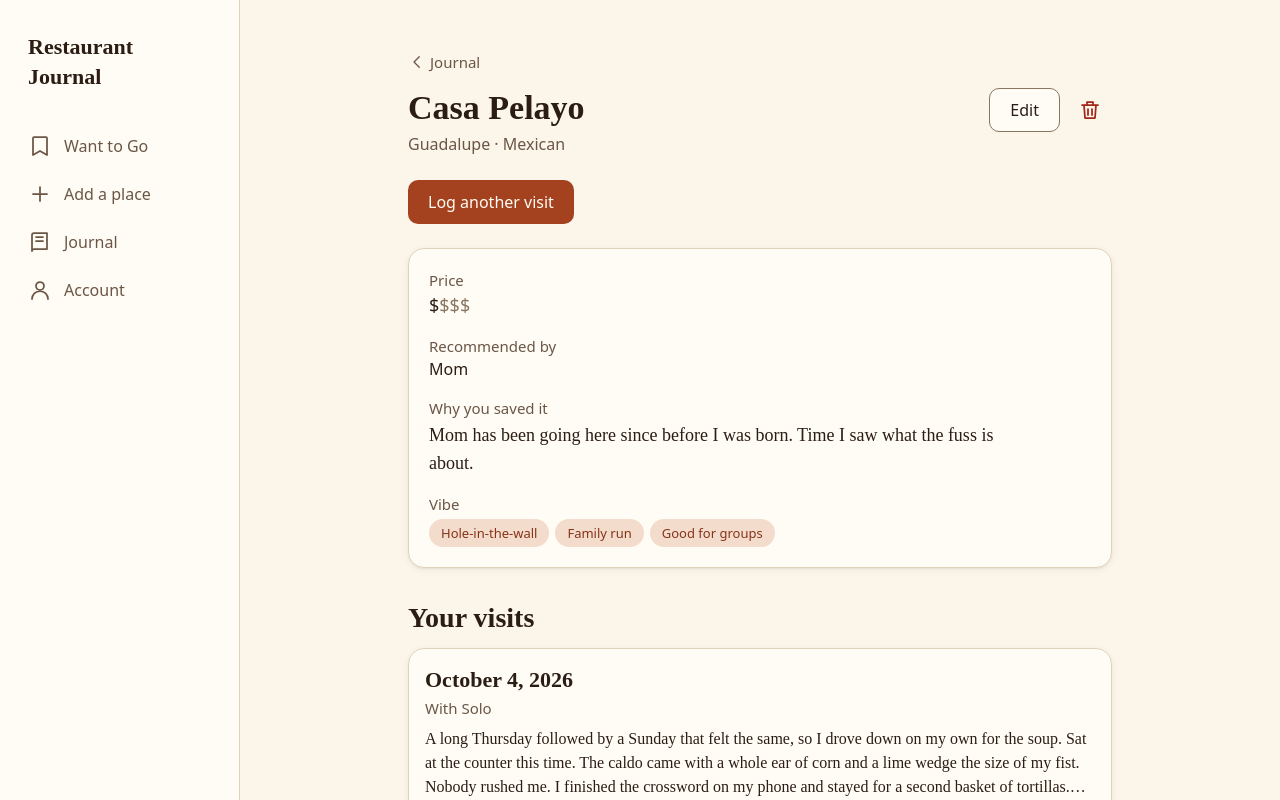
Test: Place detail screen › warns that deleting a visited place also deletes its entries, and can be cancelled
This screenshot has width=1280, height=800.
Click the button named "Delete Casa Pelayo" at coordinates (1090, 110), box [1068,88,1112,132]
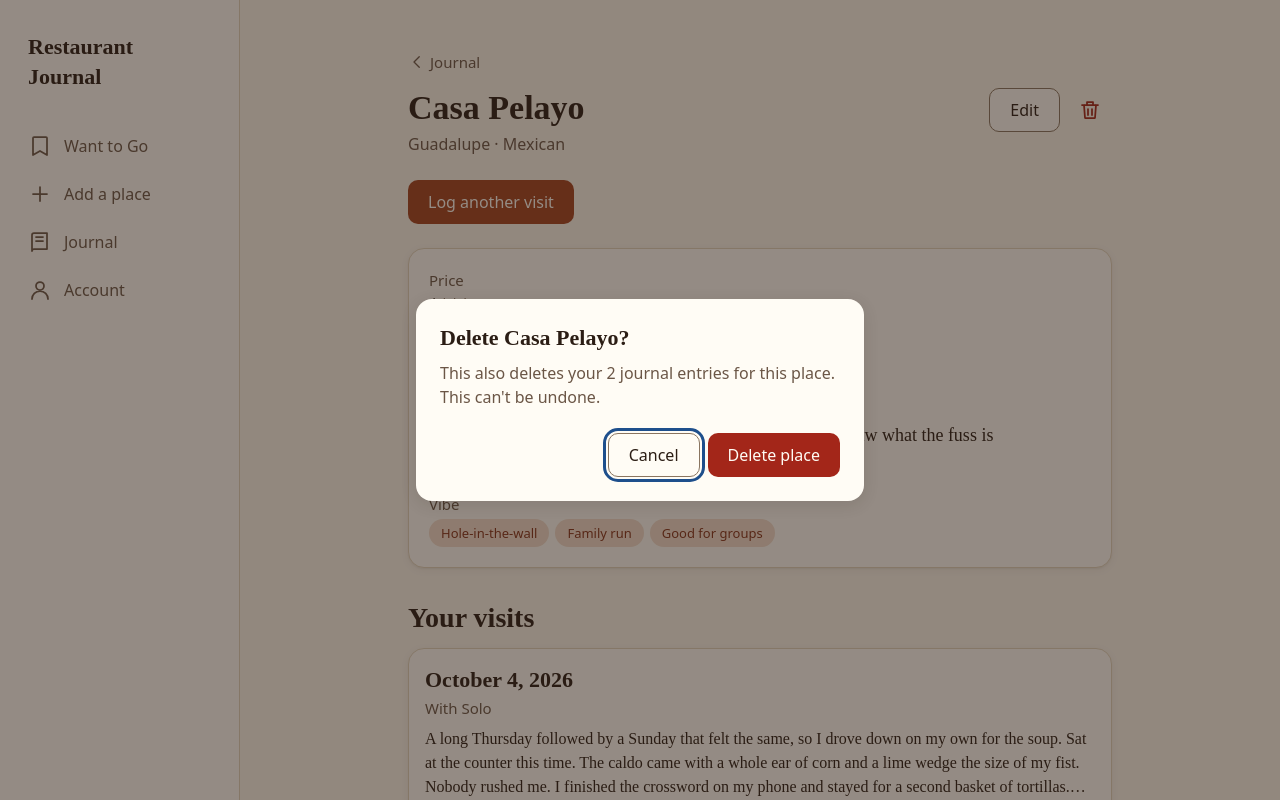
Check: the dialog "Delete Casa Pelayo?" shows "This also deletes your 2 journal entries", box [440,362,835,408]
Click the button "Cancel" at coordinates (654, 455), box [608,433,700,477]
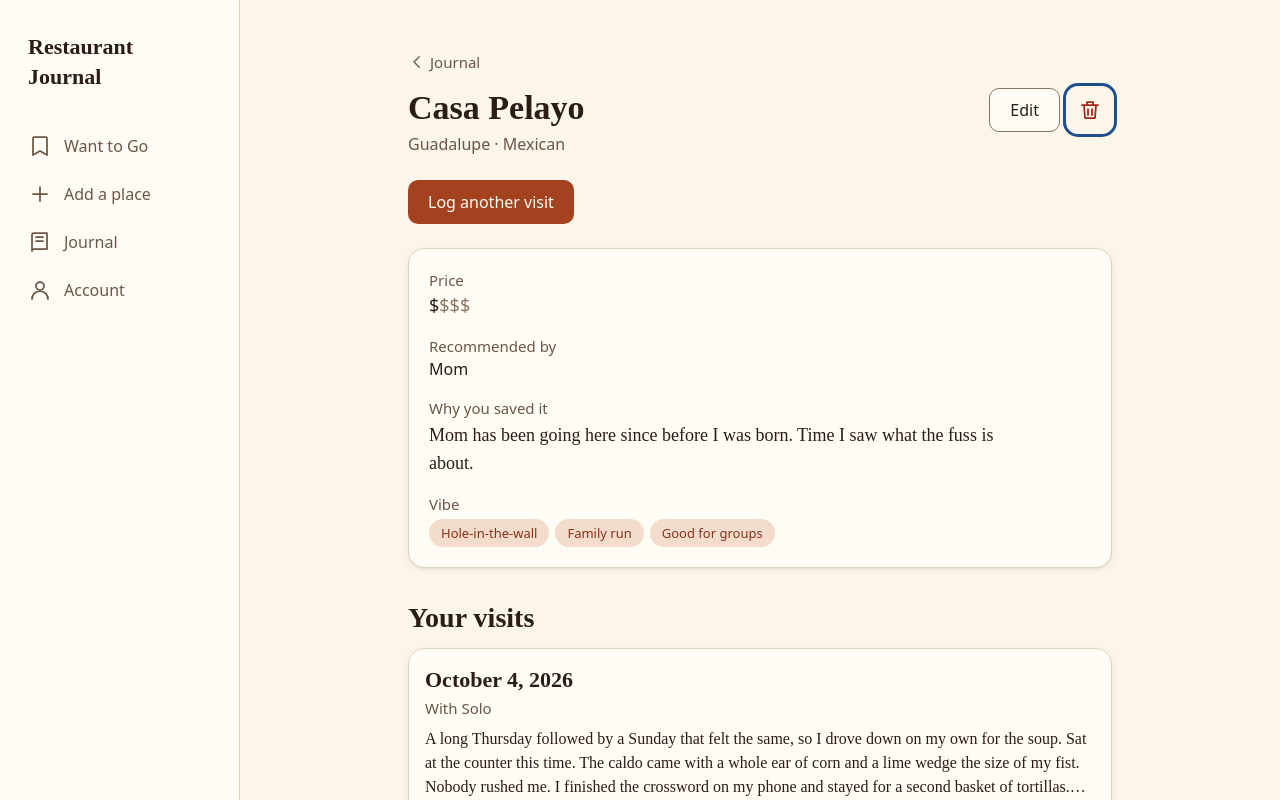
Check: the heading "Casa Pelayo" is shown, box [408,88,585,128]
Check: the dialog is gone
